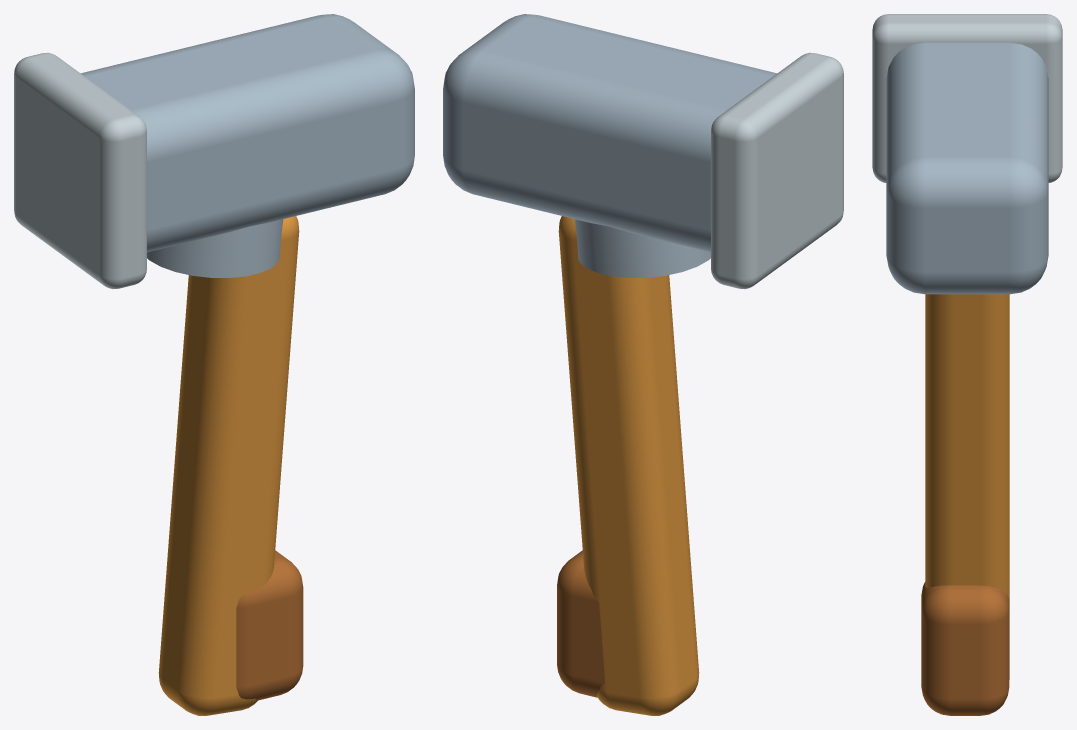
Rendered from Hammer.glb.
3 views of the same model, side by side, from view 1: azimuth 30°, elevation 25°; view 2: azimuth 150°, elevation 25°; view 3: azimuth 270°, elevation 25° (orthographic). The views are drawn at different scales.
Parts seen in each view (by area): view 1: Hammer; view 2: Hammer; view 3: Hammer.
Part boxes in pixels (<box>): Hammer: <box>14,14,414,715</box>; Hammer: <box>443,14,843,715</box>; Hammer: <box>872,14,1062,715</box>.
Size of the model in its own units: 0.51 by 0.9658 by 0.27.
